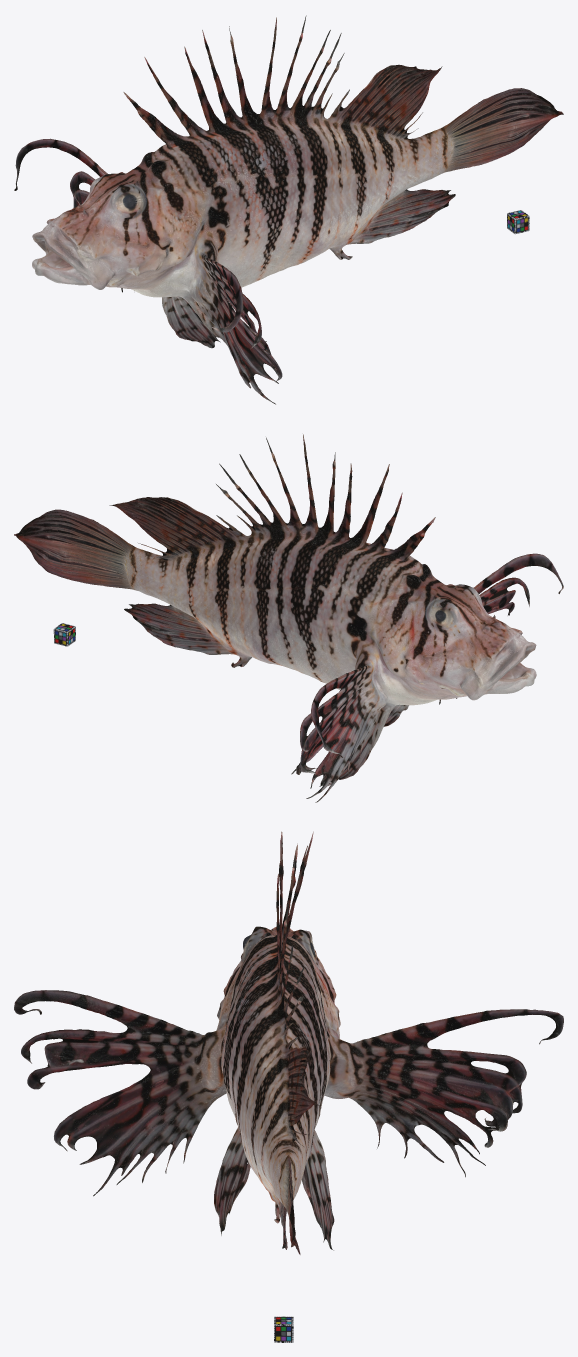
File: cc0___luna_lionfish_pterois_lunulata.glb
3 views of the same model, one above another, from view 1: azimuth 30°, elevation 25°; view 2: azimuth 150°, elevation 25°; view 3: azimuth 270°, elevation 25° (orthographic). The views are drawn at different scales.
Visible parts, largest first — view 1: Q11651-1all-7_5; view 2: Q11651-1all-7_5; view 3: Q11651-1all-7_5.
Part boxes in pixels (x1,y1,x2,y2): Q11651-1all-7_5: [14, 15, 563, 404]; Q11651-1all-7_5: [14, 434, 563, 802]; Q11651-1all-7_5: [14, 831, 563, 1254].
Size of the model in its own units: 13.9 by 8.45 by 10.5.
3 materials, 3 textured.
